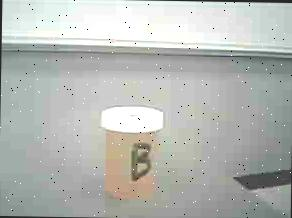Bottle B: (94, 102, 170, 202)
